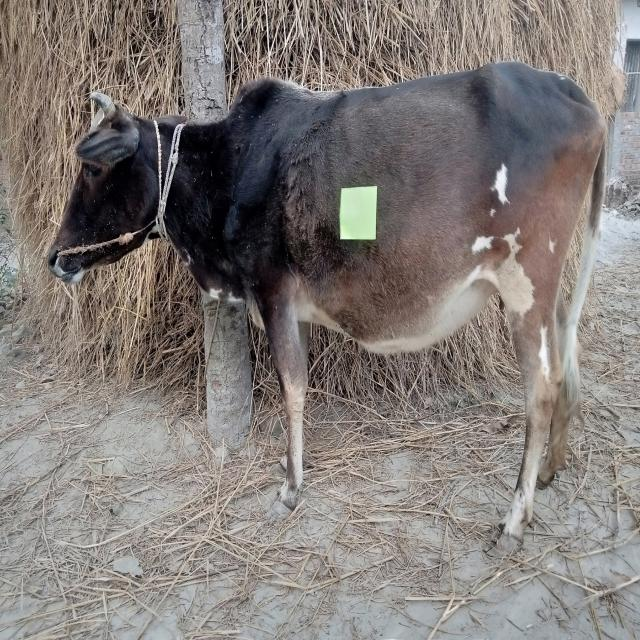badan_sapi: (241, 67, 601, 356)
sapi: (42, 57, 612, 561)
